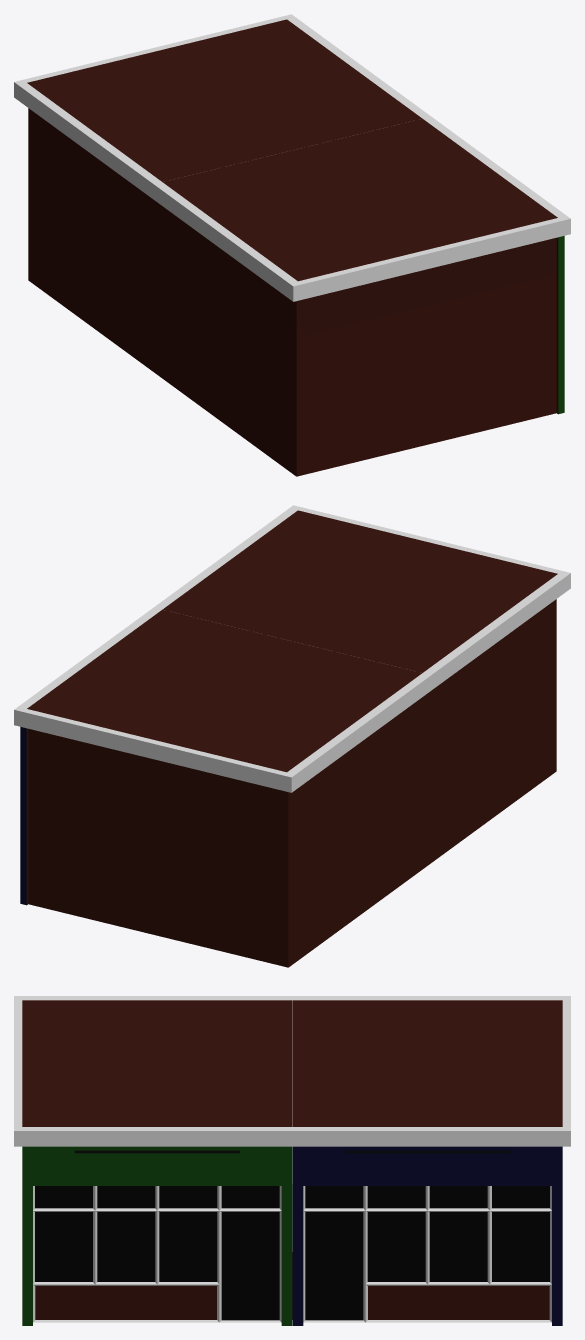
The model's file is shopBreakableWallsNew.fbx.
3 views of the same model, one above another, from view 1: azimuth 30°, elevation 25°; view 2: azimuth 150°, elevation 25°; view 3: azimuth 270°, elevation 25° (orthographic).
Parts seen in each view (by area): view 1: Cube, Cube.014, Cube.015, Cube.005, Cube.004, Cube.018, Cube.011, Cube.021, Cube.008, Cube.002, Cube.007, Cube.017 (+9 smaller); view 2: Cube, Cube.053, Cube.043, Cube.050, Cube.060, Cube.057, Cube.047, Cube.046, Cube.056, Cube.041, Cube.051, Cube.042 (+9 smaller); view 3: Cube.
Boxes of the visible parts, box(x1,y1,x2,y2) form: Cube: box(14, 14, 570, 476); Cube.014: box(453, 362, 478, 435); Cube.015: box(454, 362, 479, 436); Cube.005: box(327, 393, 352, 460); Cube.004: box(326, 399, 351, 466); Cube.018: box(504, 349, 529, 422); Cube.011: box(403, 375, 428, 448); Cube.021: box(530, 343, 555, 410); Cube.008: box(377, 387, 402, 454); Cube.002: box(301, 399, 326, 472); Cube.007: box(352, 387, 377, 460); Cube.017: box(479, 356, 504, 423); Cube: box(14, 505, 570, 967); Cube.053: box(106, 853, 131, 926); Cube.043: box(233, 890, 258, 957); Cube.050: box(156, 866, 181, 939); Cube.060: box(29, 834, 54, 901); Cube.057: box(55, 840, 80, 913); Cube.047: box(182, 878, 207, 945); Cube.046: box(207, 878, 232, 951); Cube.056: box(80, 847, 105, 914); Cube.041: box(258, 890, 283, 963); Cube.051: box(131, 866, 156, 933); Cube.042: box(258, 891, 283, 964); Cube: box(14, 996, 570, 1325).
Bounding box in the file's own units: 754 × 504 × 1300.
